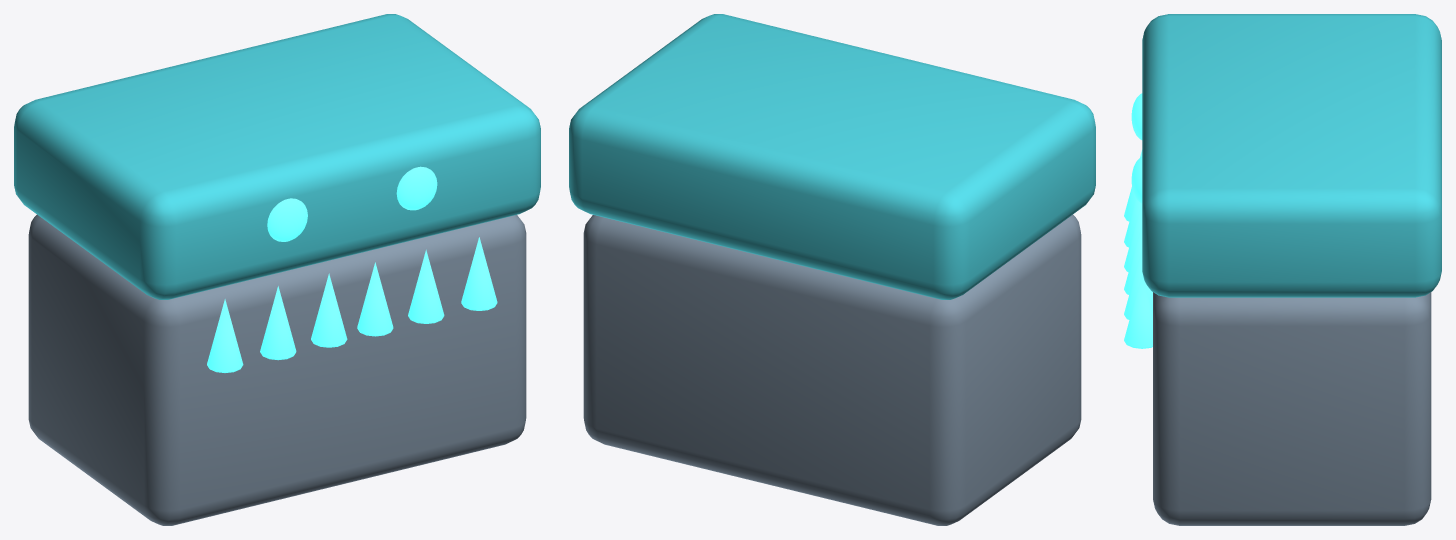
The model's file is mimic.glb.
The picture shows the model from 3 angles, left to right: view 1: azimuth 30°, elevation 25°; view 2: azimuth 150°, elevation 25°; view 3: azimuth 270°, elevation 25°; orthographic projection.
Visible parts, largest first — view 1: CHEST_PRIMARY, LID_ACCENT, TOOTH_EMISSIVE.002, TOOTH_EMISSIVE.001, TOOTH_EMISSIVE.004, TOOTH_EMISSIVE.003, TOOTH_EMISSIVE.005, TOOTH_EMISSIVE, EYE_EMISSIVE, EYE_EMISSIVE.001; view 2: CHEST_PRIMARY, LID_ACCENT; view 3: LID_ACCENT, CHEST_PRIMARY, TOOTH_EMISSIVE.005, TOOTH_EMISSIVE.004, TOOTH_EMISSIVE.003, EYE_EMISSIVE, EYE_EMISSIVE.001, TOOTH_EMISSIVE.002.
Boxes of the visible parts, x1,y1,x2,y2 form: CHEST_PRIMARY: (28, 214, 526, 525); LID_ACCENT: (14, 14, 540, 299); TOOTH_EMISSIVE.002: (311, 273, 347, 347); TOOTH_EMISSIVE.001: (260, 286, 296, 360); TOOTH_EMISSIVE.004: (408, 249, 444, 323); TOOTH_EMISSIVE.003: (357, 262, 393, 336); TOOTH_EMISSIVE.005: (461, 237, 497, 310); TOOTH_EMISSIVE: (207, 299, 243, 372); EYE_EMISSIVE: (267, 198, 307, 241); EYE_EMISSIVE.001: (396, 166, 437, 210); CHEST_PRIMARY: (583, 214, 1081, 525); LID_ACCENT: (569, 14, 1095, 299); LID_ACCENT: (1142, 14, 1441, 297); CHEST_PRIMARY: (1153, 292, 1431, 525); TOOTH_EMISSIVE.005: (1124, 274, 1152, 348); TOOTH_EMISSIVE.004: (1124, 248, 1152, 319); TOOTH_EMISSIVE.003: (1124, 223, 1142, 294); EYE_EMISSIVE: (1131, 93, 1142, 139); EYE_EMISSIVE.001: (1131, 157, 1142, 203); TOOTH_EMISSIVE.002: (1124, 203, 1142, 272).
Size of the model in its own units: 1.72 by 1.4 by 1.19.
